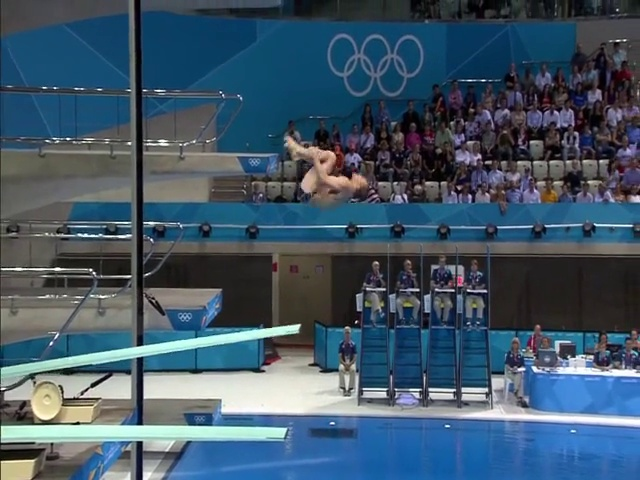diver: (282, 134, 367, 212)
